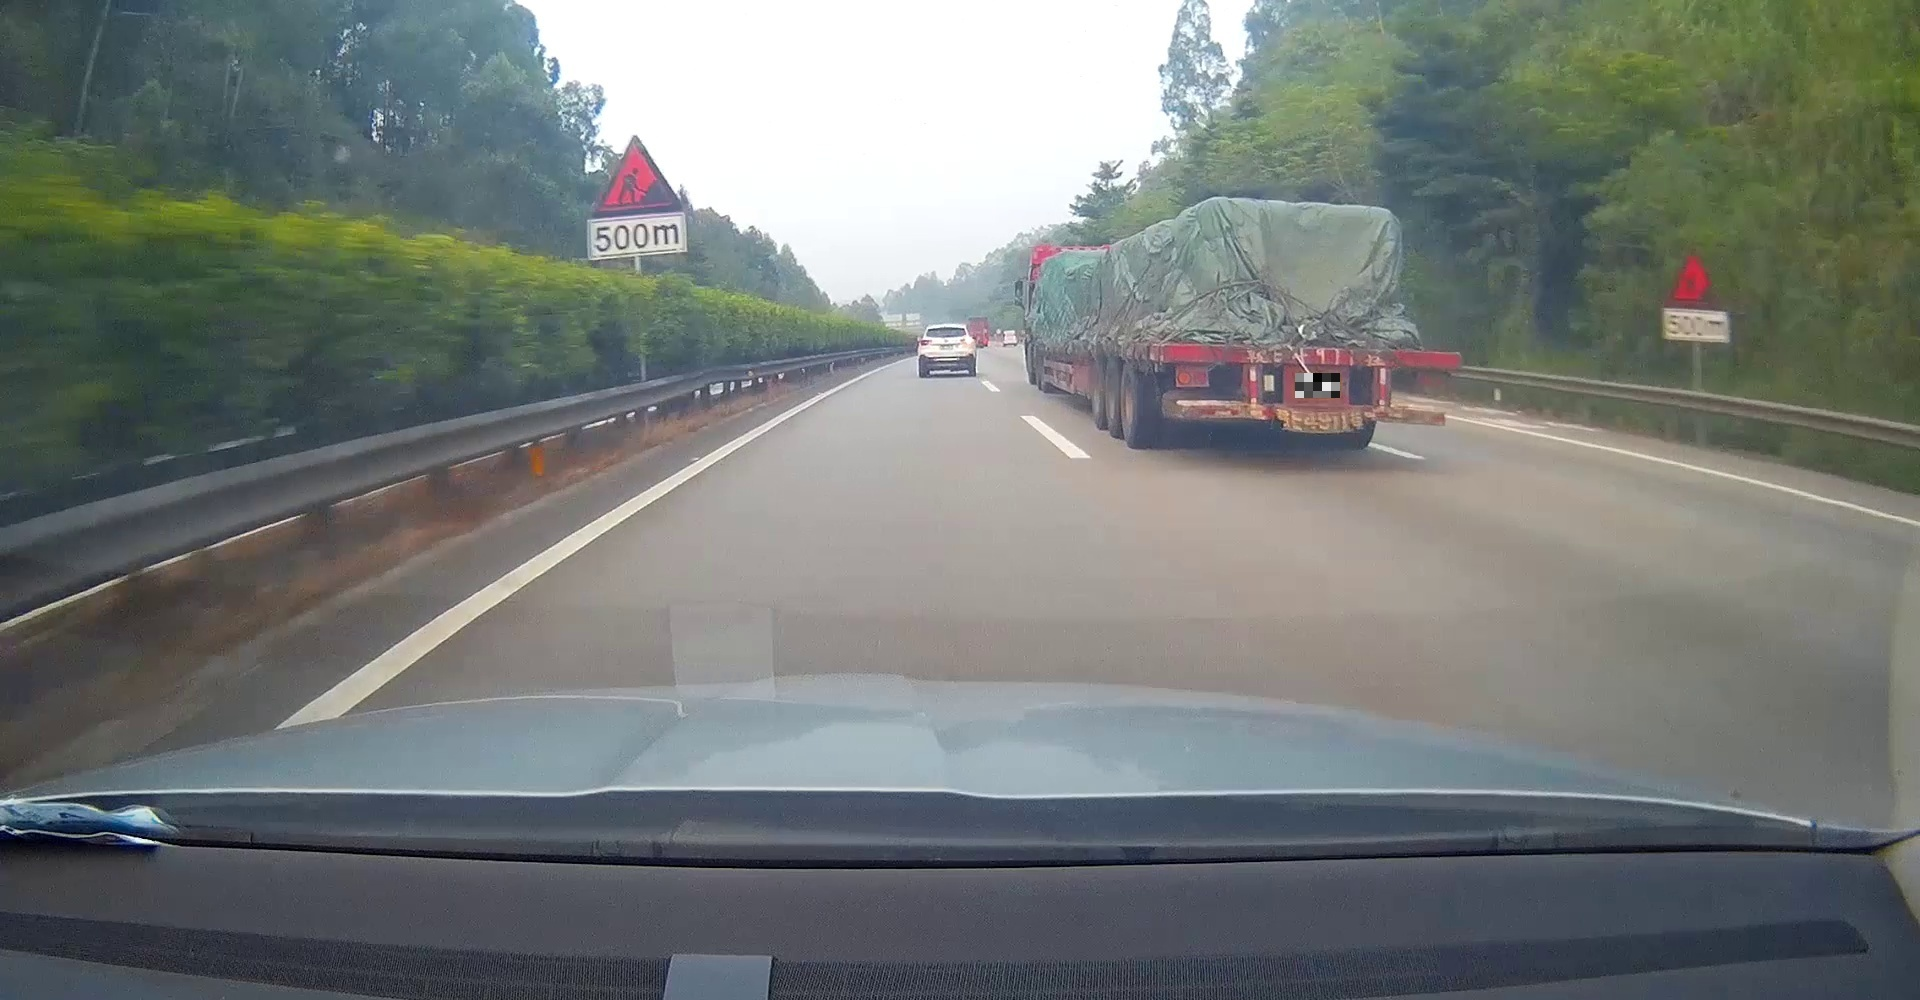L_light: (1175, 363, 1209, 387), (918, 339, 932, 346)
R_light: (960, 339, 971, 345)
T_light: (1417, 369, 1444, 391), (1302, 352, 1328, 358), (941, 327, 952, 329)
day-no: (1150, 344, 1462, 451), (918, 324, 977, 377)
plate_1: (1295, 373, 1340, 398)
